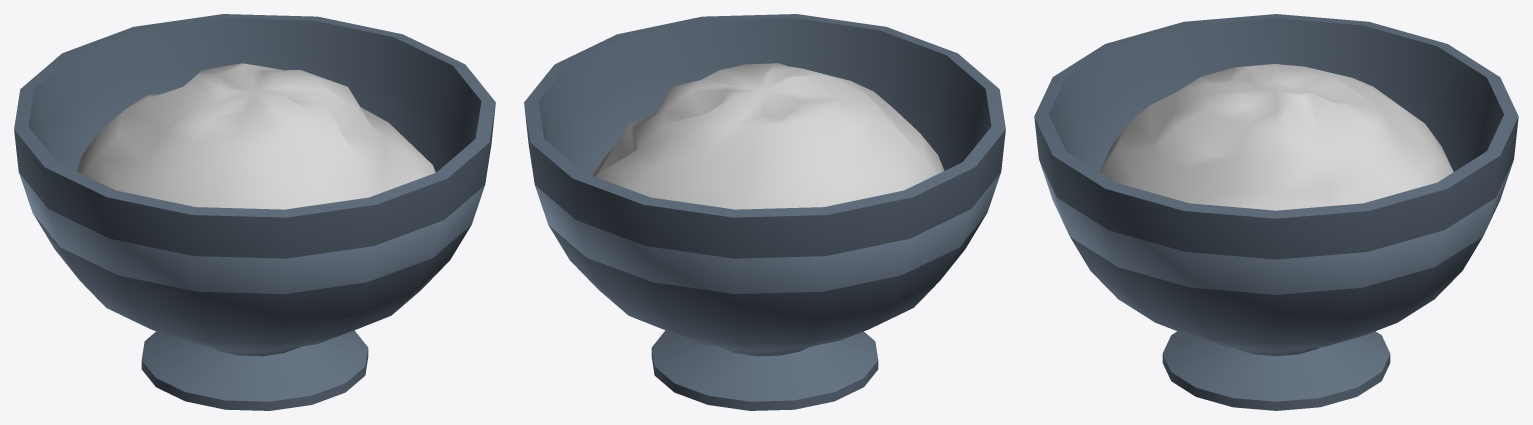
File: bowl of rice.fbx
3 views of the same model, side by side, from view 1: azimuth 30°, elevation 25°; view 2: azimuth 150°, elevation 25°; view 3: azimuth 270°, elevation 25° (orthographic).
Parts seen in each view (by area): view 1: ricy_bowl; view 2: ricy_bowl; view 3: ricy_bowl.
Boxes of the visible parts, x1,y1,x2,y2 form: ricy_bowl: (14, 14, 495, 410); ricy_bowl: (524, 14, 1005, 410); ricy_bowl: (1034, 14, 1518, 410).
Bounding box in the file's own units: 35.94 × 22.59 × 35.94.
